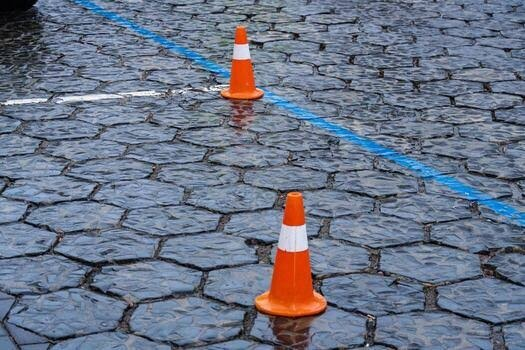safety_cone: (243, 174, 331, 325), (225, 22, 268, 98)
